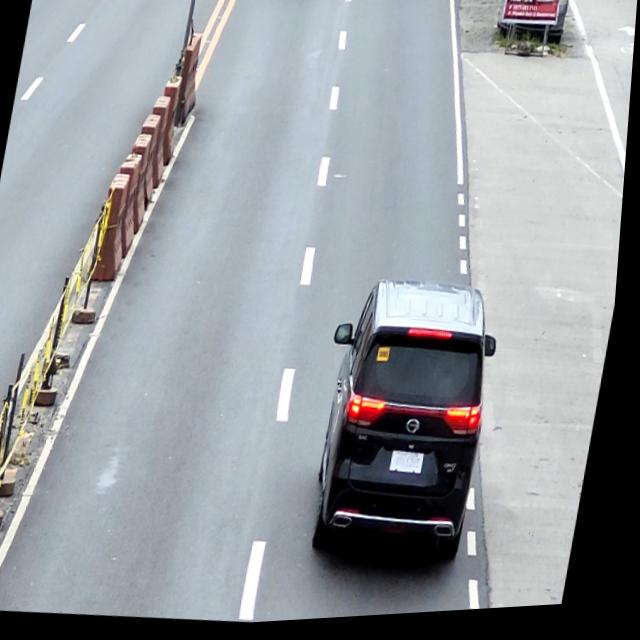Car: (302, 272, 514, 579)
License-Plate: (395, 454, 432, 480)
